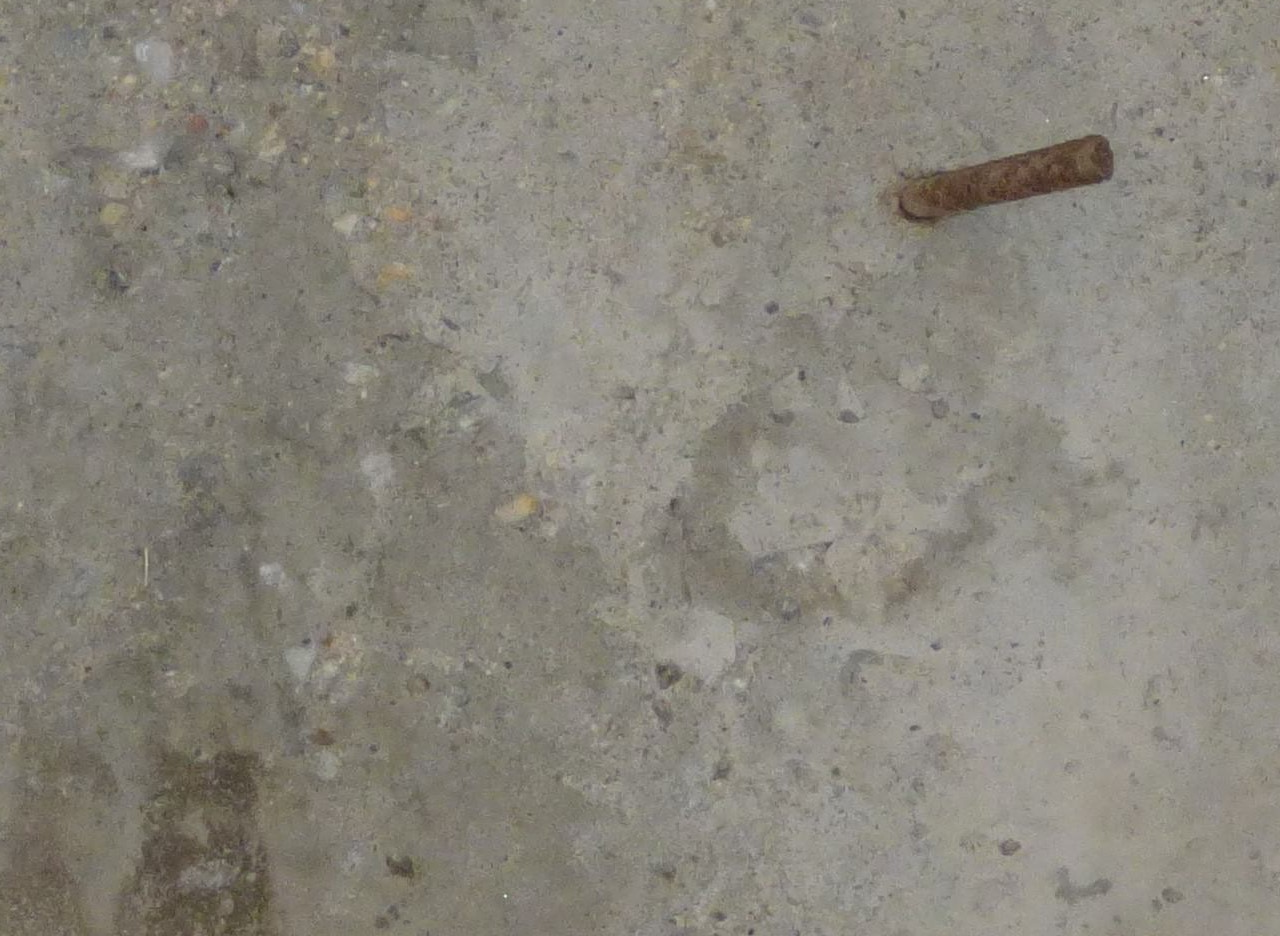Exposed reinforcement: (900, 133, 1115, 220)
